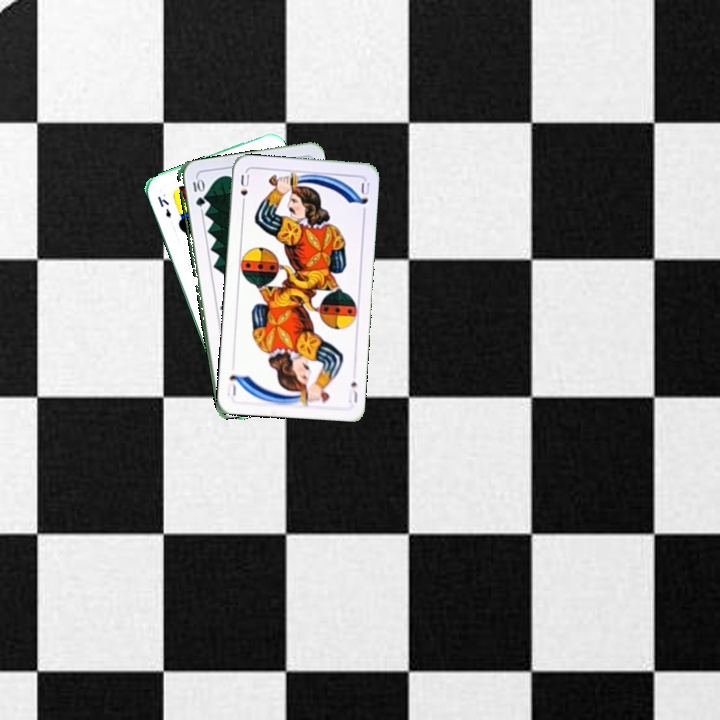EK: (153, 192, 174, 220)
G10: (189, 175, 206, 209)
SU: (236, 170, 252, 210), (344, 377, 360, 406)
